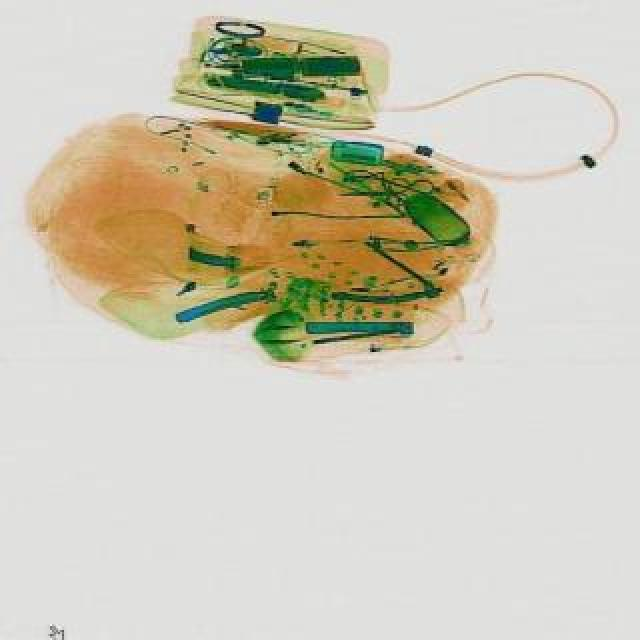pliers: (340, 178, 412, 210)
